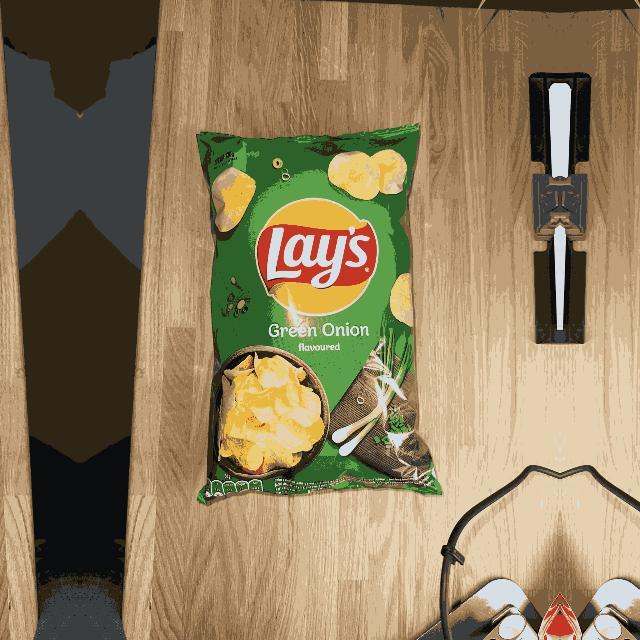lays: (256, 198, 380, 318)
